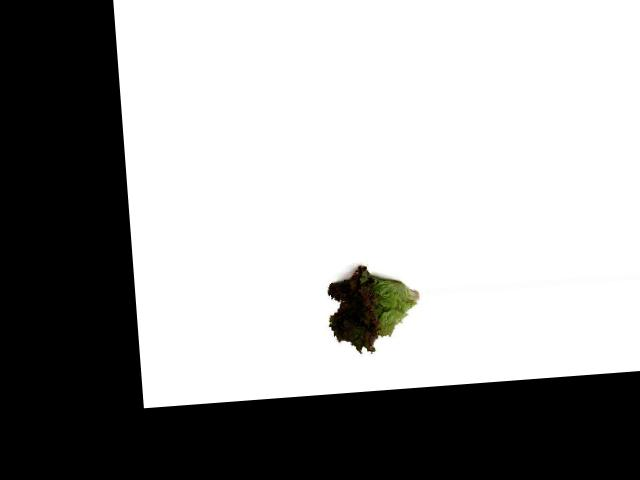lettuce: (312, 253, 425, 360)
